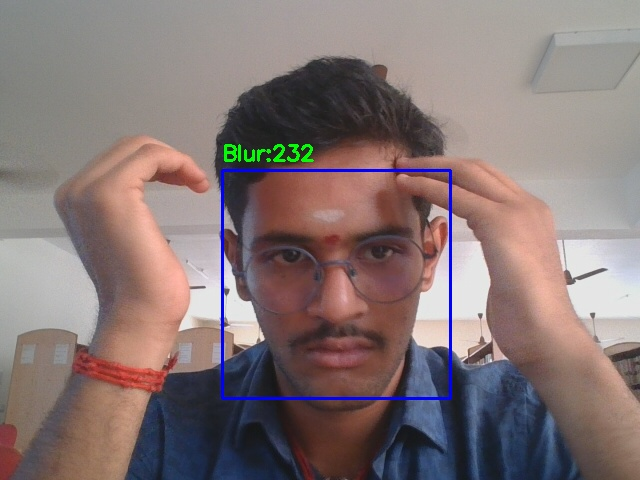real: (222, 170, 450, 398)
